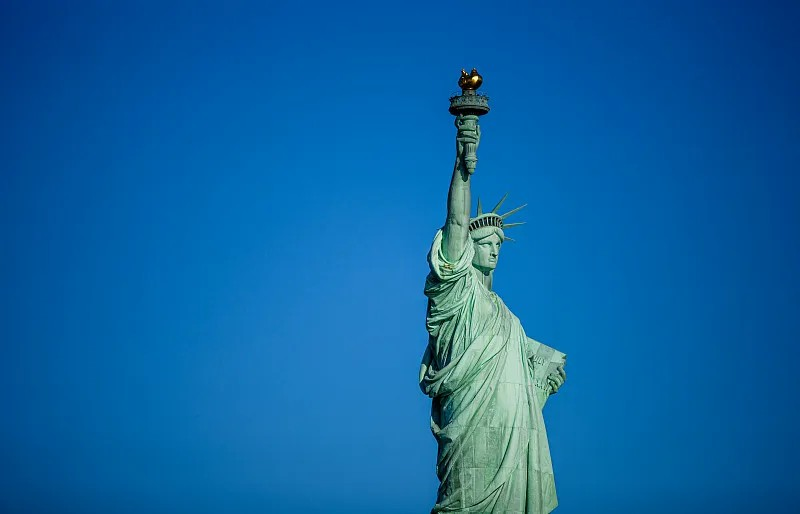SL: (419, 67, 567, 514)
